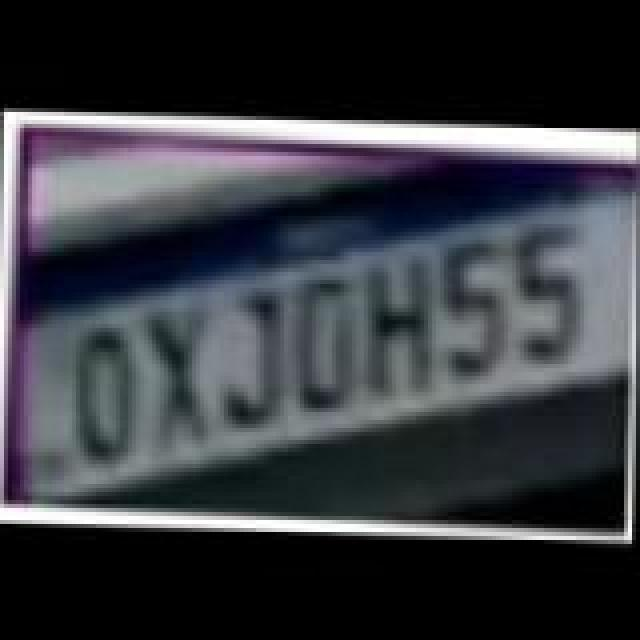5: (506, 224, 586, 356), (436, 240, 512, 376)
D: (288, 276, 364, 412)
H: (362, 250, 442, 394)
J: (222, 290, 294, 426)
O: (66, 324, 142, 464)
X: (144, 308, 220, 444)
